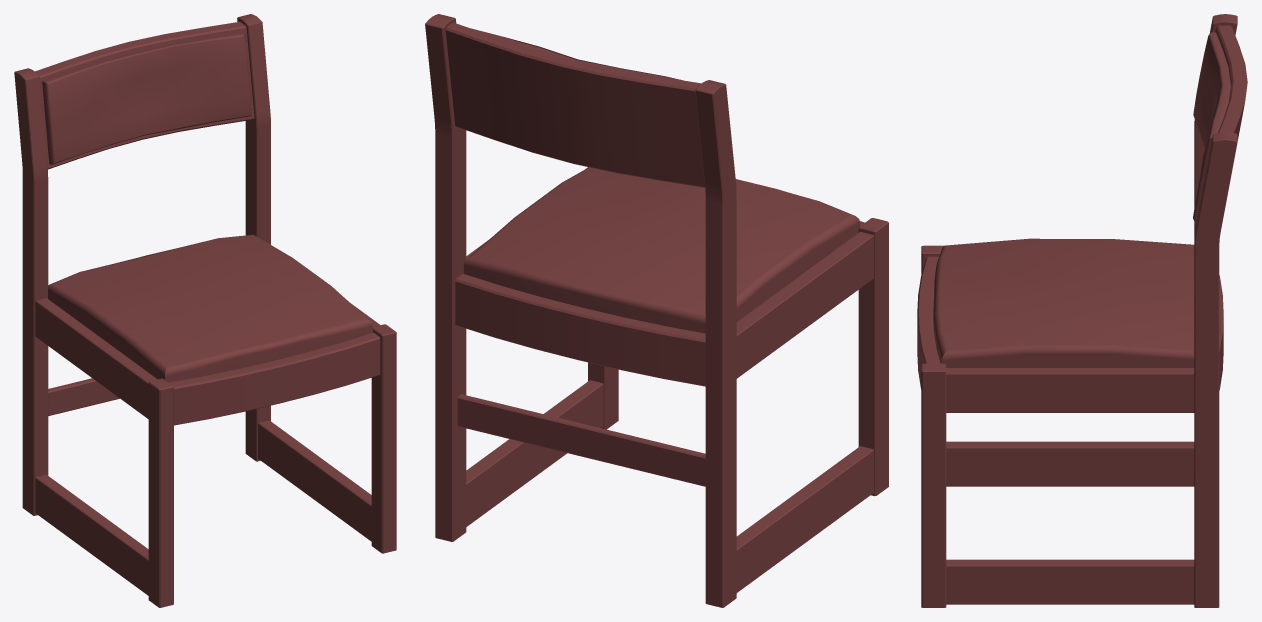
The model's file is libraryChair.fbx.
The picture shows the model from 3 angles, left to right: view 1: azimuth 30°, elevation 25°; view 2: azimuth 150°, elevation 25°; view 3: azimuth 270°, elevation 25°; orthographic projection. The views are drawn at different scales.
Parts seen in each view (by area): view 1: Library_Chair; view 2: Library_Chair; view 3: Library_Chair.
Part boxes in pixels (x1,y1,x2,y2): Library_Chair: (14, 14, 396, 607); Library_Chair: (425, 14, 888, 607); Library_Chair: (917, 14, 1247, 607).
Bounding box in the file's own units: 48 × 83.29 × 53.25.
